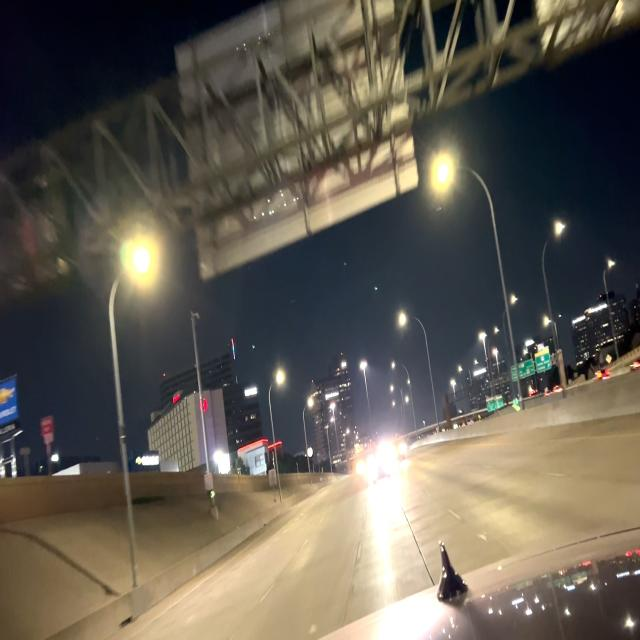back-of-sign: (174, 0, 418, 282), (531, 0, 640, 64)
